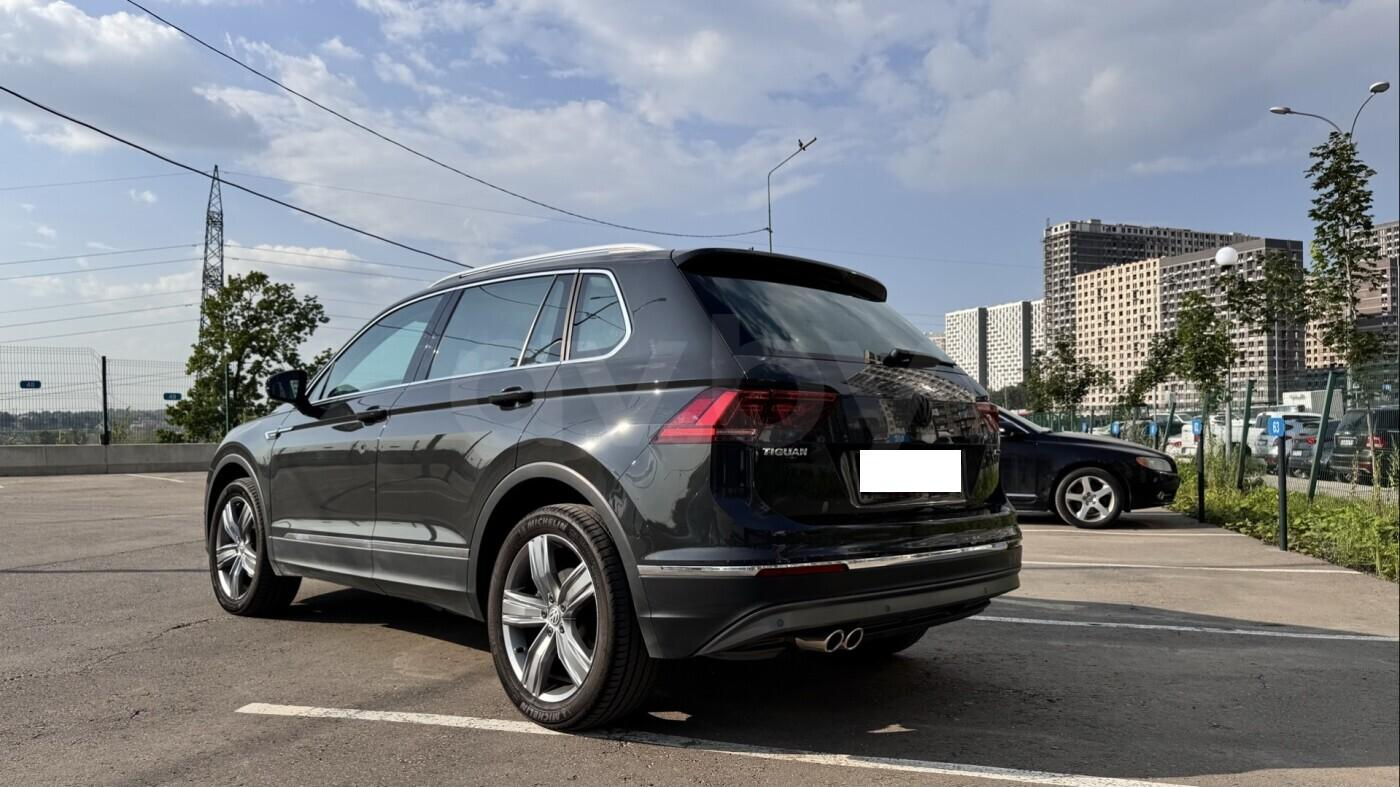Tiguan_2016-2021: (199, 245, 1025, 727)
